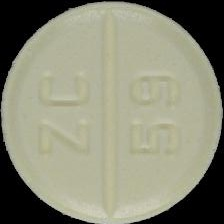54868-5310: (0, 0, 224, 224)
